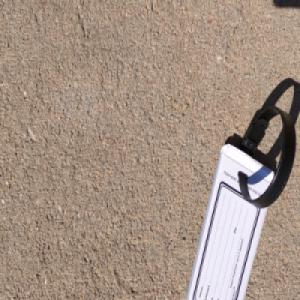LuggageTag: (184, 103, 296, 300)
